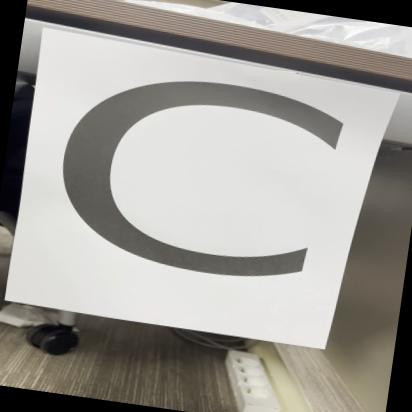seat: (4, 27, 391, 360)
